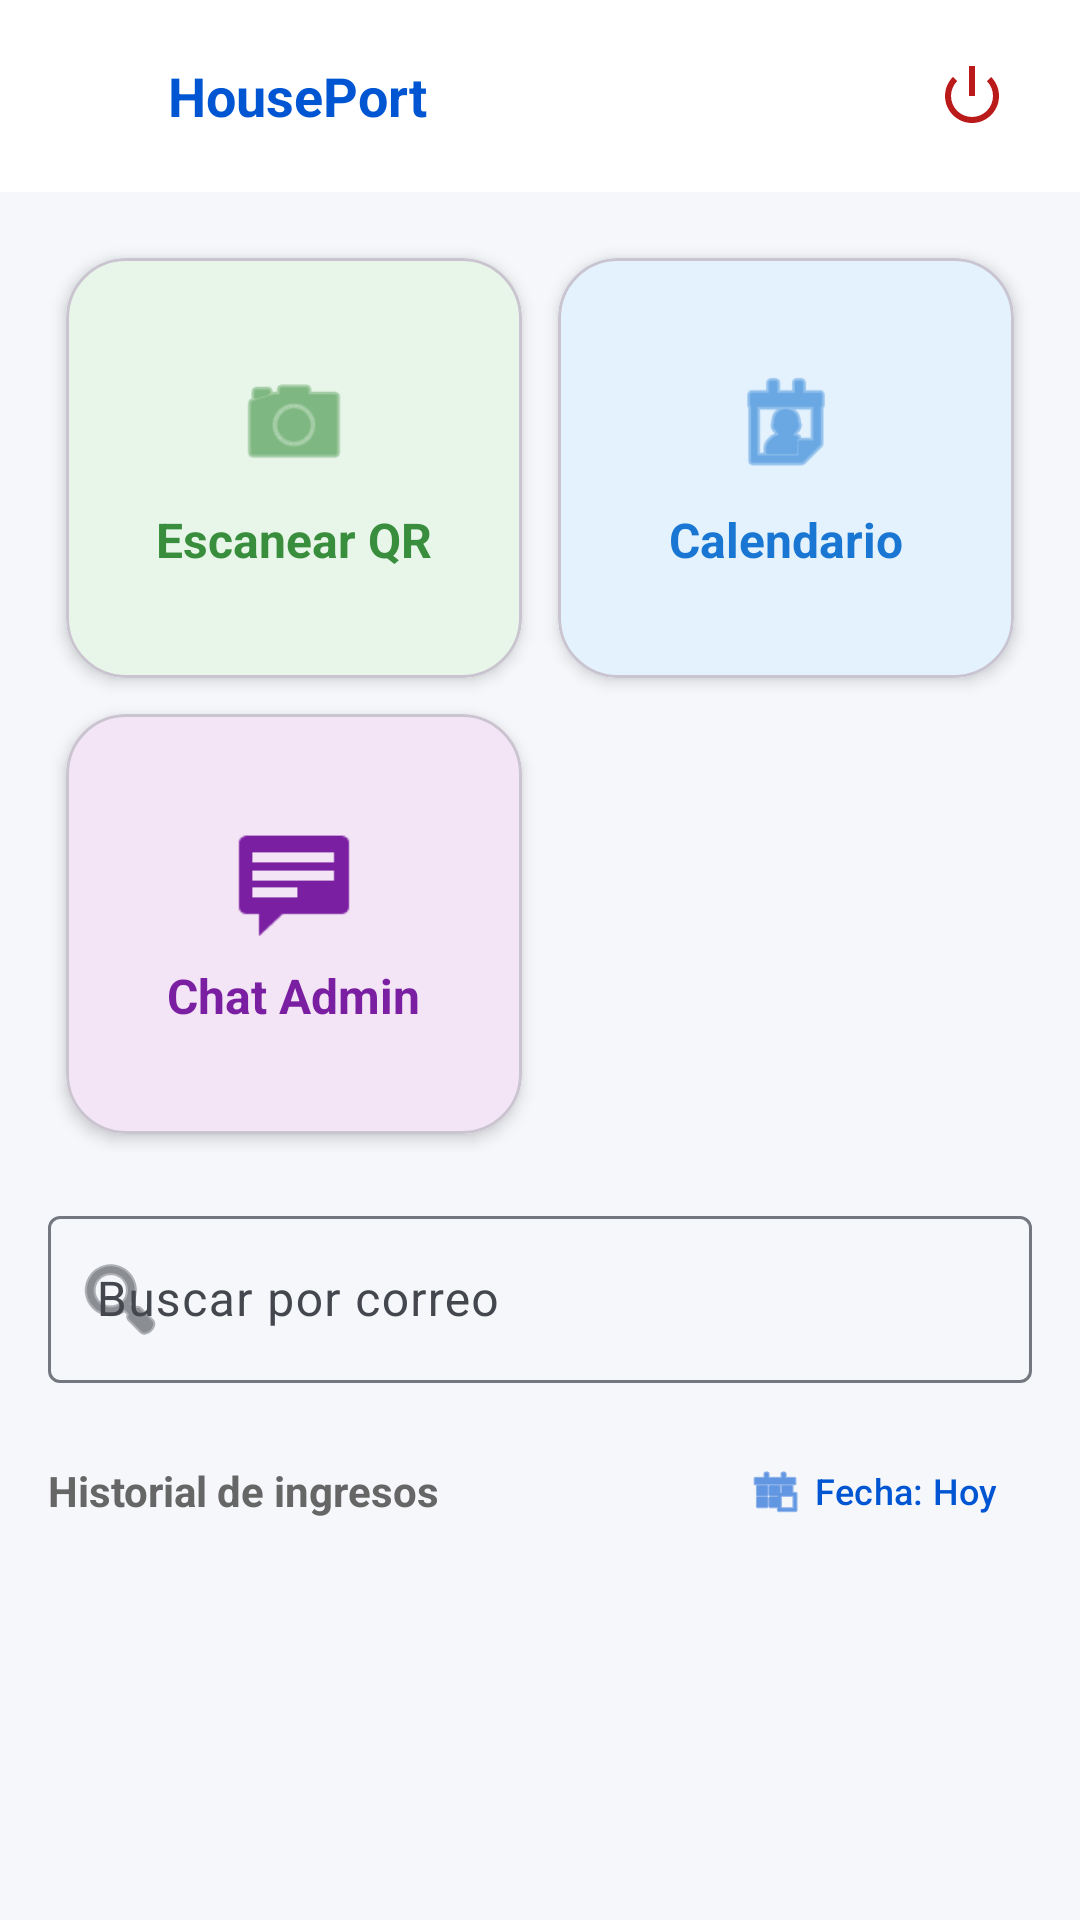

Named icons in this screenshot (1080 × 1920) and their centers, (x=x, y=y):
camera: (x=294, y=421)
lock power off: (x=972, y=94)
